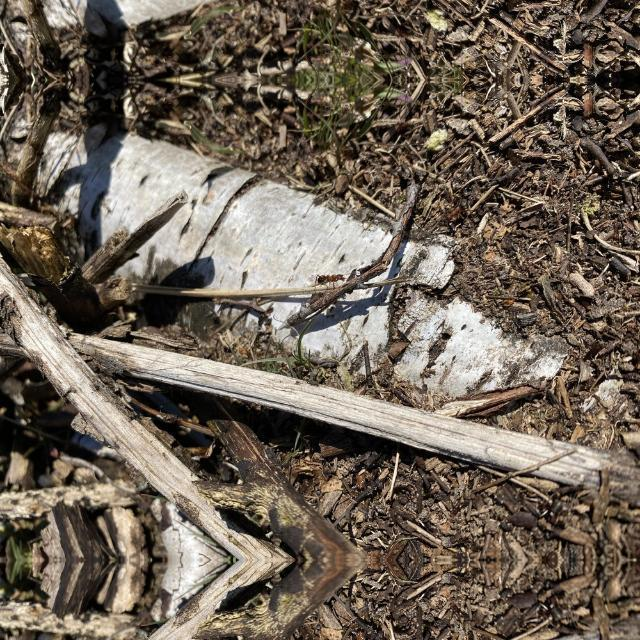Formica: (436, 197, 472, 223), (313, 265, 347, 291)
